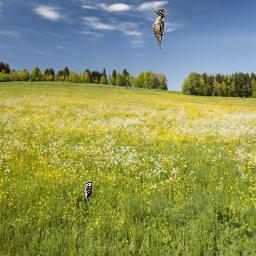Woodpecker: (151, 9, 165, 49), (83, 181, 93, 204)
